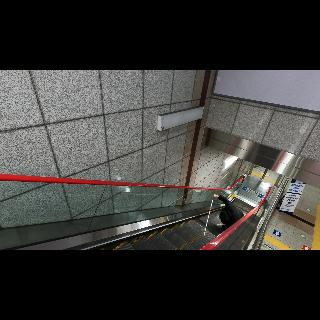anomaly: (212, 192, 246, 236)
